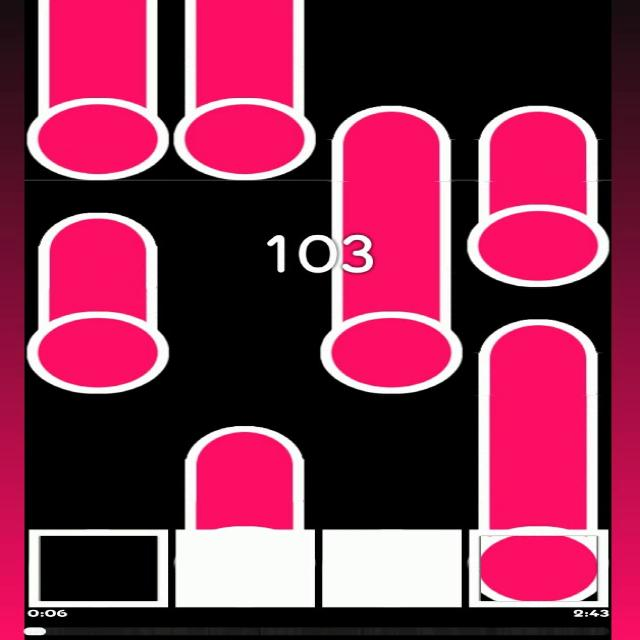end_hold: (476, 294, 601, 367), (476, 84, 603, 147), (184, 404, 308, 468), (333, 85, 453, 147)
start_hold: (322, 276, 464, 394), (26, 68, 170, 180), (173, 69, 314, 180), (28, 288, 169, 394), (469, 182, 610, 287), (478, 498, 602, 602)
